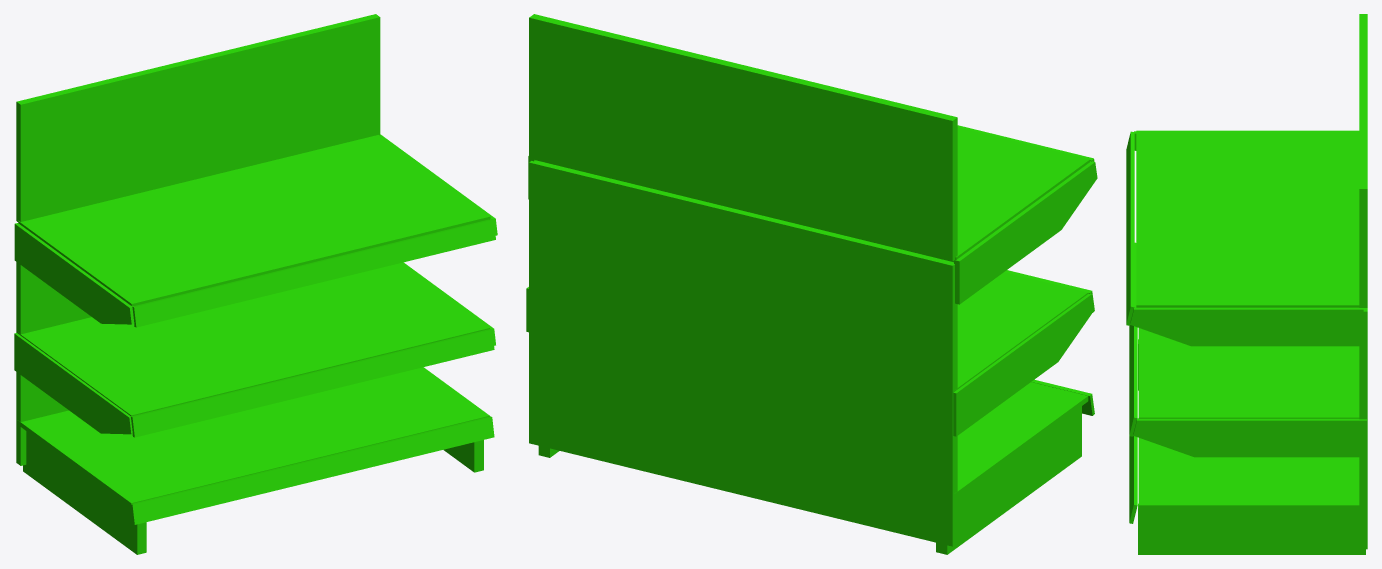
Rendered from Shop_Shelf_A_03_Lod0.fbx.
3 views of the same model, side by side, from view 1: azimuth 30°, elevation 25°; view 2: azimuth 150°, elevation 25°; view 3: azimuth 270°, elevation 25° (orthographic). The views are drawn at different scales.
Parts seen in each view (by area): view 1: Shop_Shelf_A_03_Lod0; view 2: Shop_Shelf_A_03_Lod0; view 3: Shop_Shelf_A_03_Lod0.
Part boxes in pixels (x1,y1,x2,y2): Shop_Shelf_A_03_Lod0: (14,14,497,554); Shop_Shelf_A_03_Lod0: (526,14,1097,554); Shop_Shelf_A_03_Lod0: (1126,14,1367,554).
Size of the model in its own units: 137 by 132 by 78.24.
